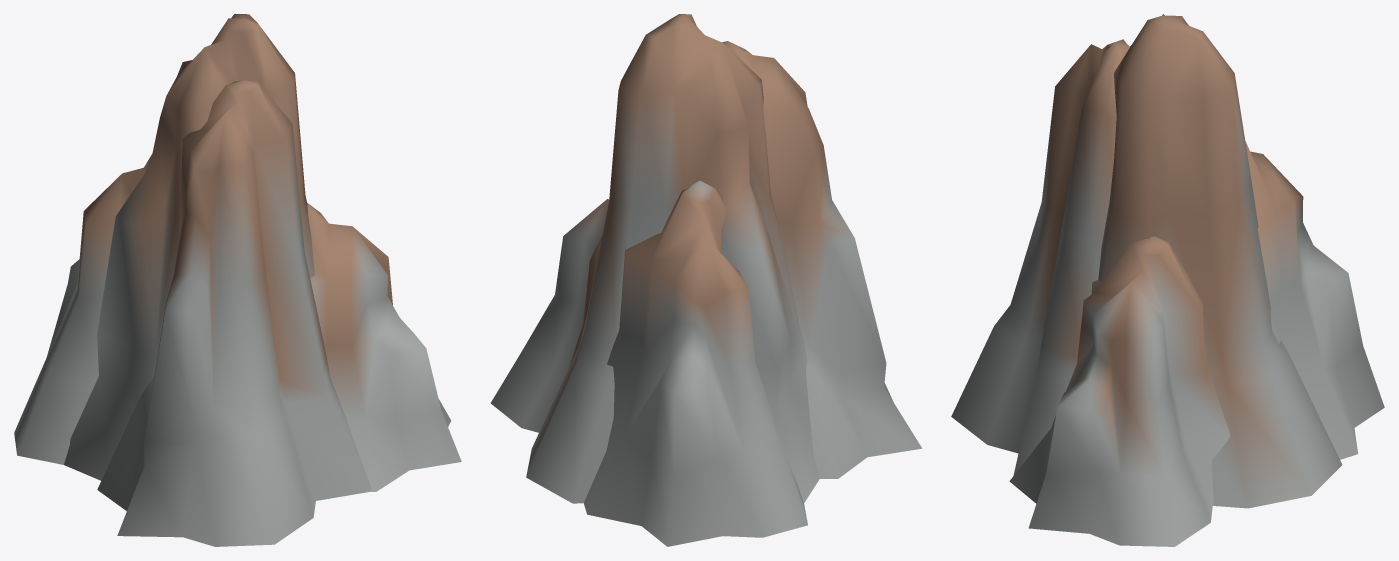
3 views of the same model, side by side, from view 1: azimuth 30°, elevation 25°; view 2: azimuth 150°, elevation 25°; view 3: azimuth 270°, elevation 25° (orthographic).
Visible parts, largest first — view 1: G:\FFXIV-MapTools\exports\s1f6\bg\ffxiv\sea_s1\fld\s1f5\bgpa; view 2: G:\FFXIV-MapTools\exports\s1f6\bg\ffxiv\sea_s1\fld\s1f5\bgpa; view 3: G:\FFXIV-MapTools\exports\s1f6\bg\ffxiv\sea_s1\fld\s1f5\bgpa.
Boxes of the visible parts, x1,y1,x2,y2 form: G:\FFXIV-MapTools\exports\s1f6\bg\ffxiv\sea_s1\fld\s1f5\bgpa: [14, 14, 461, 546]; G:\FFXIV-MapTools\exports\s1f6\bg\ffxiv\sea_s1\fld\s1f5\bgpa: [490, 14, 922, 546]; G:\FFXIV-MapTools\exports\s1f6\bg\ffxiv\sea_s1\fld\s1f5\bgpa: [951, 14, 1384, 546].
Bounding box in the file's own units: 10.58 × 11.73 × 10.51.
